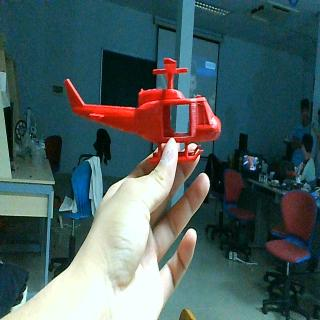Helicopter: (64, 58, 221, 166)
